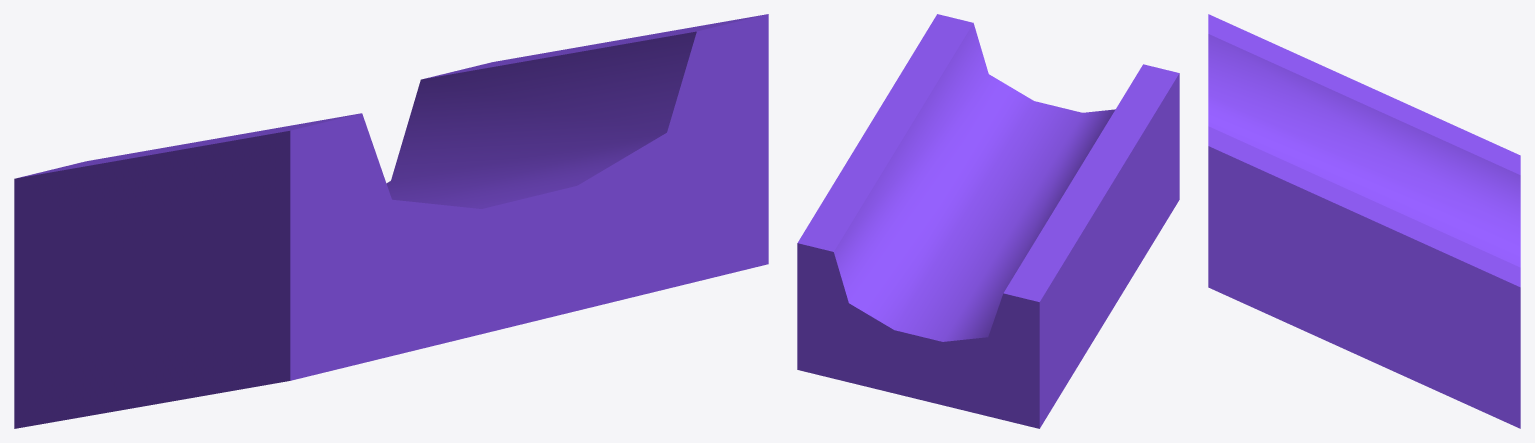
File: slant_B.fbx
3 renders of one model, left to right at view 1: azimuth 30°, elevation 25°; view 2: azimuth 150°, elevation 25°; view 3: azimuth 270°, elevation 25°, orthographic. The views are drawn at different scales.
Visible parts, largest first — view 1: slant_B; view 2: slant_B; view 3: slant_B.
Boxes of the visible parts, box(x1,y1,x2,y2) form: slant_B: box(14, 14, 768, 428); slant_B: box(797, 14, 1179, 428); slant_B: box(1208, 14, 1520, 428).
Bounding box in the file's own units: 10 × 10 × 10.
